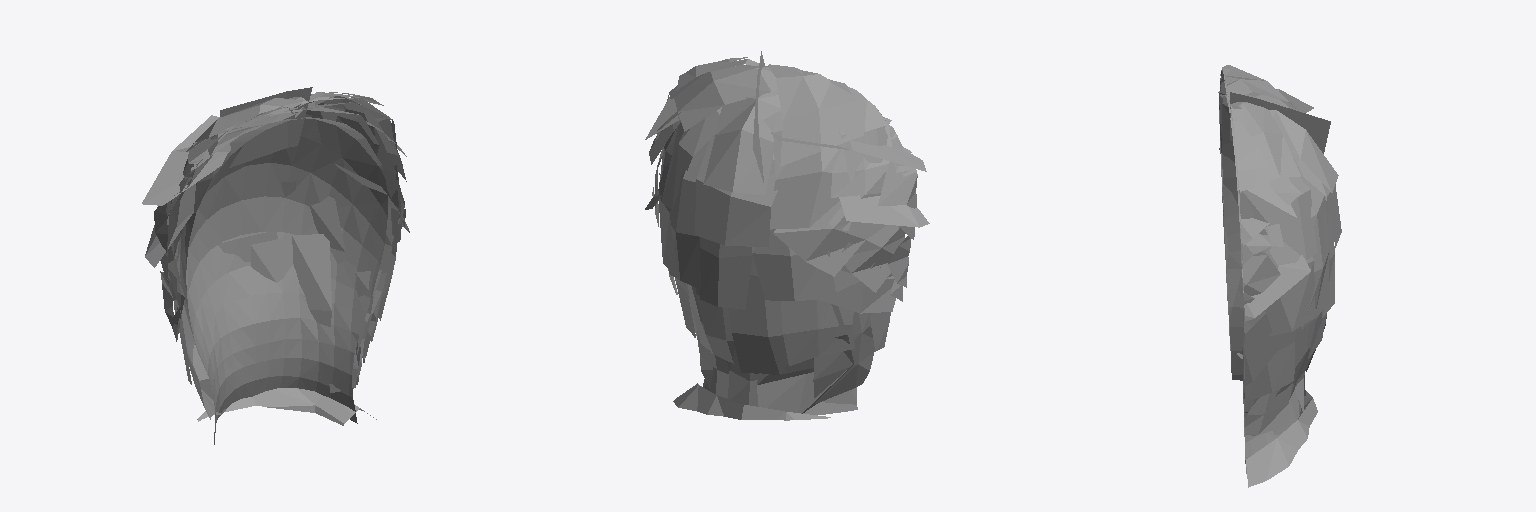
The model's file is hair2.obj.
The picture shows the model from 3 angles: view 1: azimuth 30°, elevation 25°; view 2: azimuth 150°, elevation 25°; view 3: azimuth 270°, elevation 25°; orthographic projection.
Parts seen in each view (by area): view 1: Harry_Potter; view 2: Harry_Potter; view 3: Harry_Potter.
Part boxes in pixels (x1,y1,x2,y2): Harry_Potter: (142,87,409,444); Harry_Potter: (645,51,929,420); Harry_Potter: (1218,65,1341,487).
Size of the model in its own units: 0.4299 by 0.5386 by 0.1685.